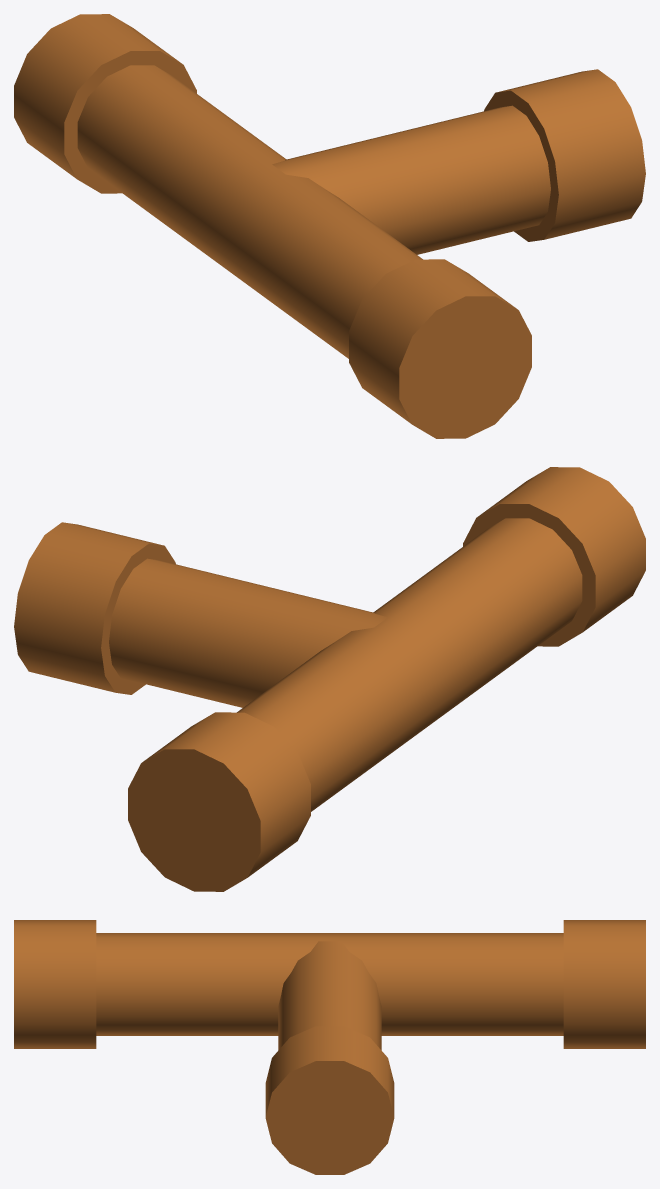
The model's file is services.pipe.tee_15.glb.
3 views of the same model, one above another, from view 1: azimuth 30°, elevation 25°; view 2: azimuth 150°, elevation 25°; view 3: azimuth 270°, elevation 25° (orthographic). The views are drawn at different scales.
Visible parts, largest first — view 1: main__copper; view 2: main__copper; view 3: main__copper.
Boxes of the visible parts, x1,y1,x2,y2 form: main__copper: [14, 14, 645, 438]; main__copper: [14, 467, 645, 891]; main__copper: [14, 920, 645, 1174].
Size of the model in its own units: 0.0551 by 0.0188 by 0.092.
